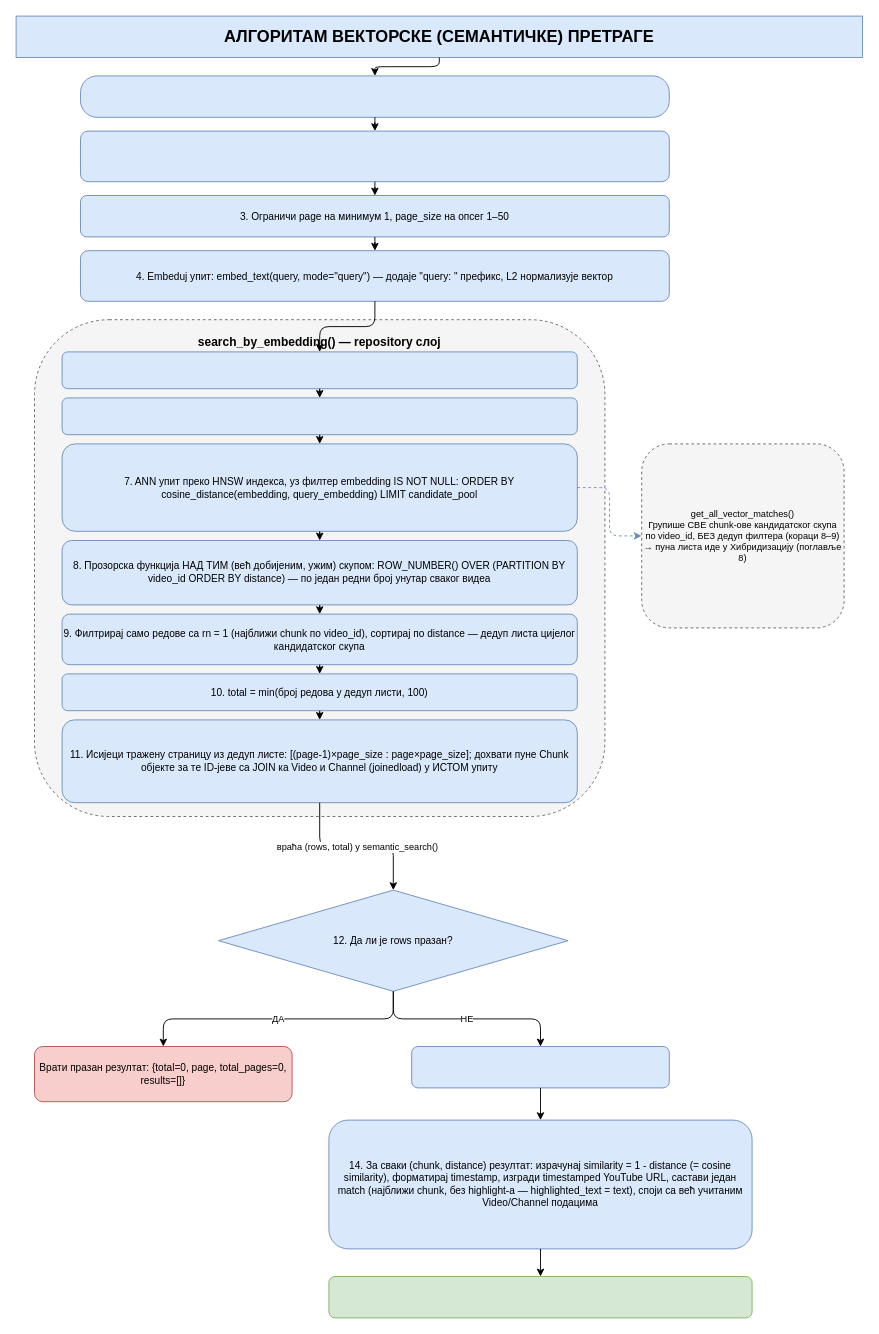
This 879x1334 diagram has some shape labels left out. The shapes that lost their labels are listed below. From the top down, each one's centre as x and y in pixels, then its label:
pixel 374 96: 1. semantic_search(query, page, page_size) позвана
pixel 374 156: 2. Валидирај упит — провјери да није празан и да није дужи од 500 карактера
pixel 319 370: 5. Израчунај cumulative_top_k = min(page × page_size, 100)
pixel 319 416: 6. Израчунај candidate_pool = cumulative_top_k × 20
pixel 540 1067: 13. total_pages = ceil(total / page_size)
pixel 540 1297: 15. Врати {total, page, total_pages, results}
